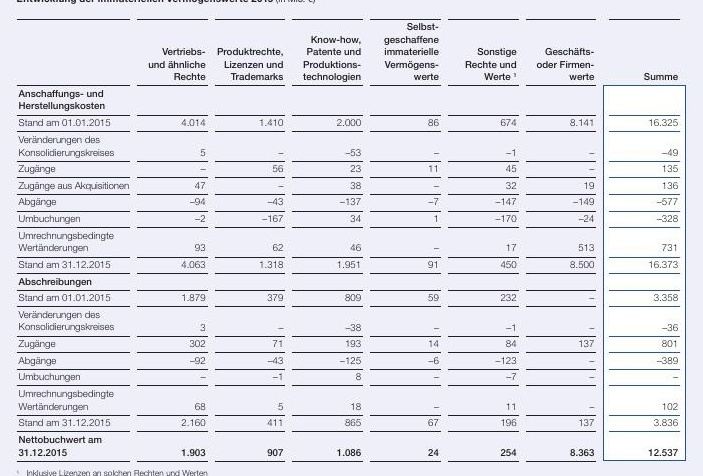table: (0, 0, 703, 476)
